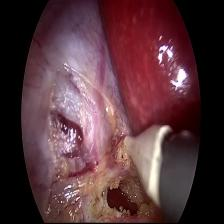Hook: (117, 120, 174, 206)
